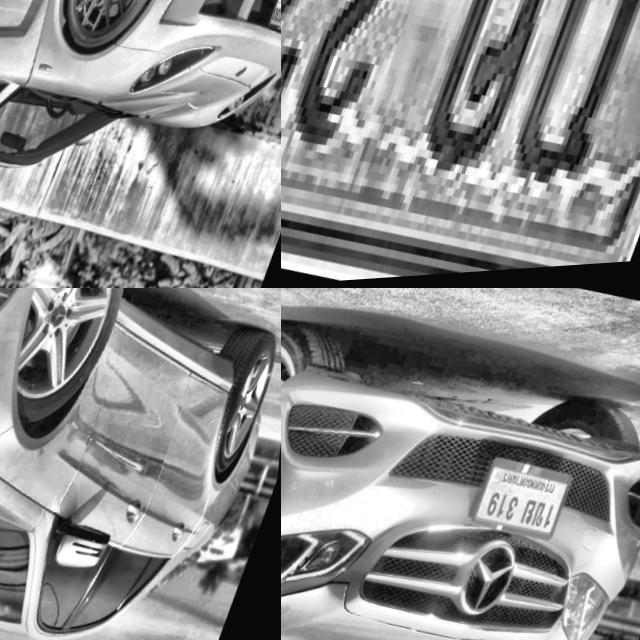license-plate: (281, 0, 640, 288), (472, 453, 584, 559), (268, 0, 281, 45)
